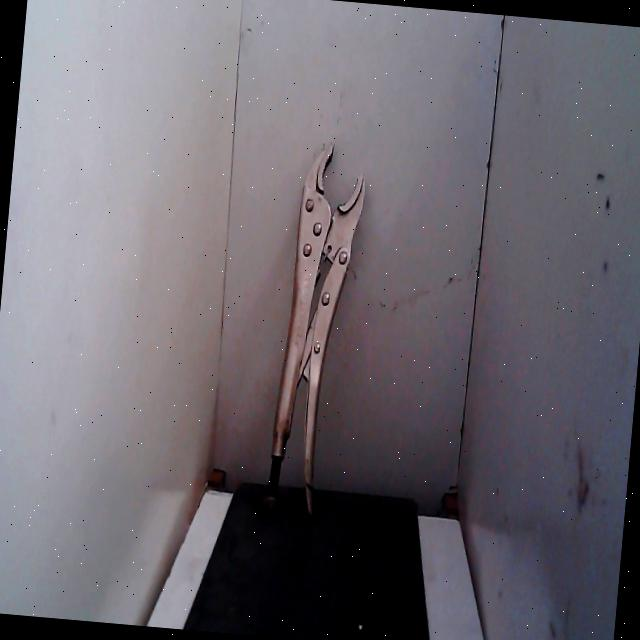metal: (224, 124, 392, 557)
